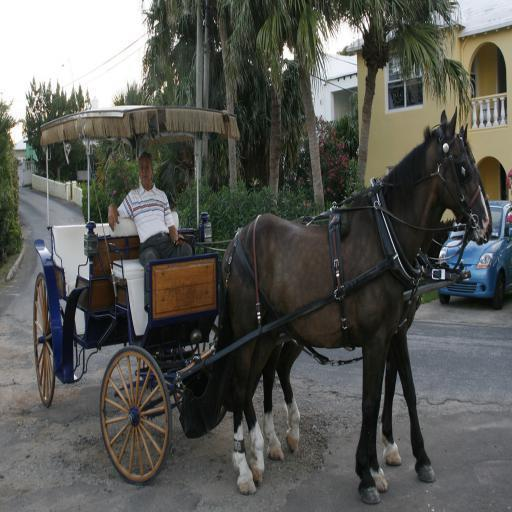horse: (212, 104, 490, 508), (262, 122, 494, 486)
